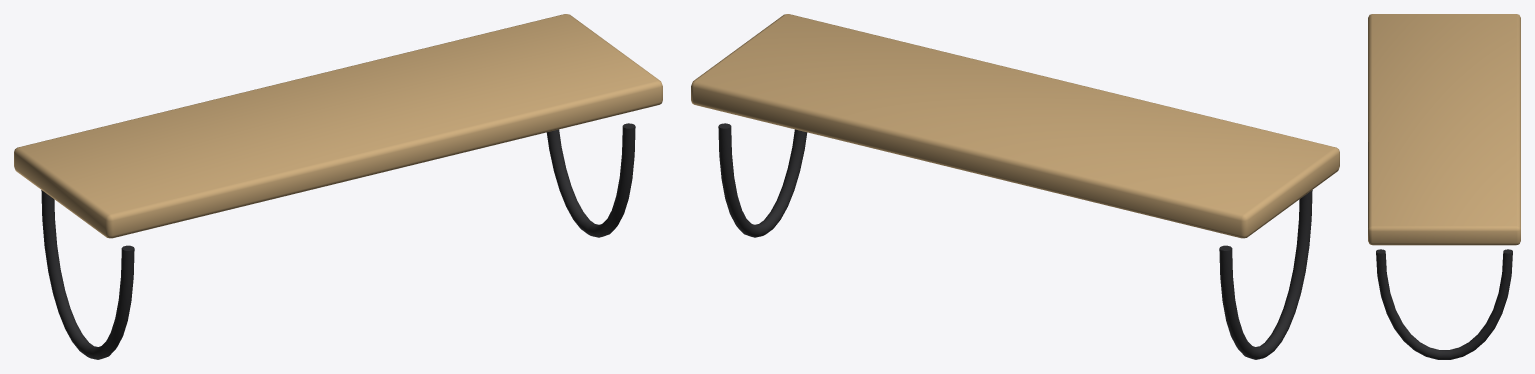
The model's file is i_bench_0.glb.
The picture shows the model from 3 angles, left to right: view 1: azimuth 30°, elevation 25°; view 2: azimuth 150°, elevation 25°; view 3: azimuth 270°, elevation 25°; orthographic projection. The views are drawn at different scales.
Visible parts, largest first — view 1: o, o.001, o.002; view 2: o, o.001, o.002; view 3: o, o.002.
Boxes of the visible parts, left/top/right/bottom form: o: left=14, top=14, right=662, bottom=238; o.001: left=41, top=190, right=134, bottom=359; o.002: left=546, top=123, right=635, bottom=237; o: left=691, top=14, right=1339, bottom=238; o.001: left=1219, top=190, right=1312, bottom=359; o.002: left=718, top=123, right=807, bottom=237; o: left=1368, top=14, right=1520, bottom=245; o.002: left=1376, top=249, right=1512, bottom=359.
Bounding box in the file's own units: 1.2 × 0.3704 × 0.36.
